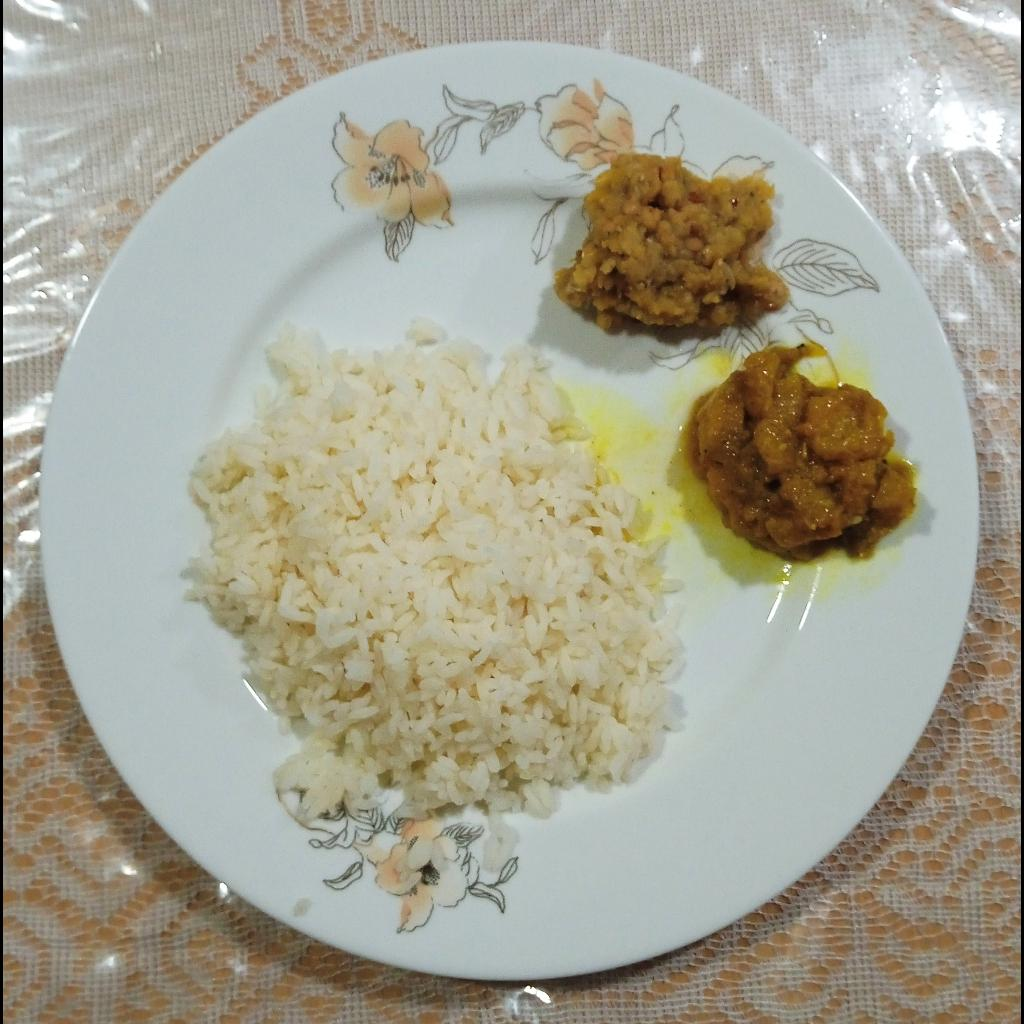daal: (553, 153, 785, 330)
kumra-vaji: (680, 338, 918, 565)
rice: (175, 322, 690, 821)
